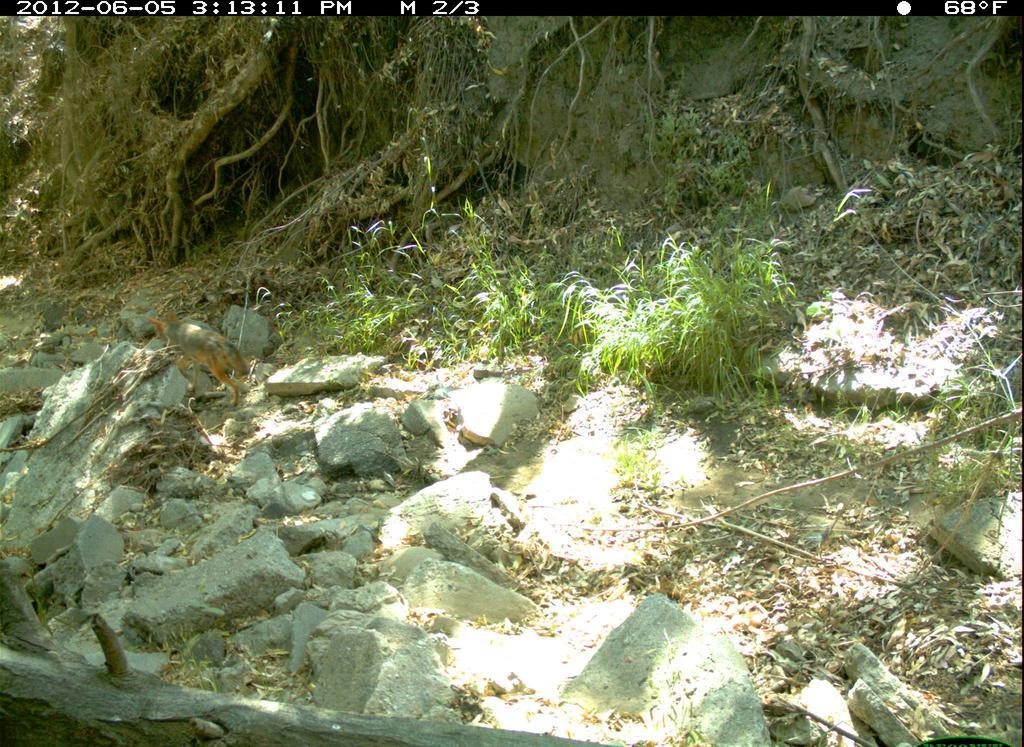coyote: (146, 305, 261, 407)
